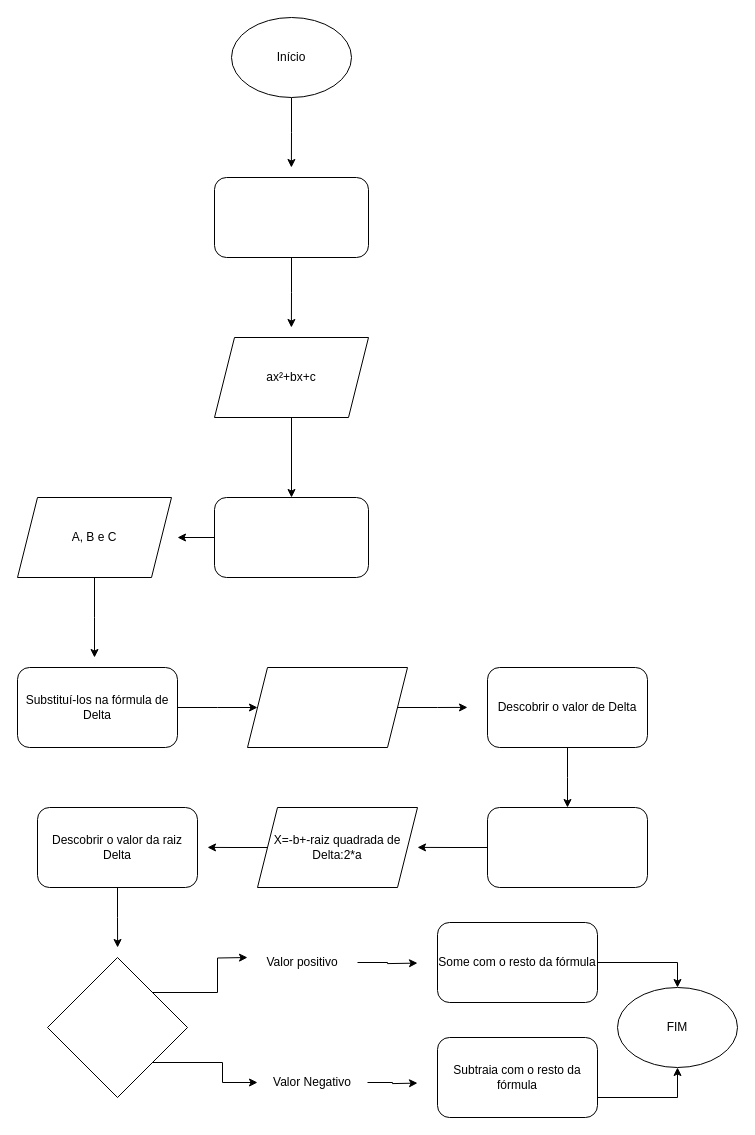
Image size: 755x1135. Some labels were removed from this diagram. Here are the shapes that lost their labels. From the top down, the box of each, then its label:
(214, 176, 368, 258): Analisar a equação de segundo grau
(214, 496, 368, 578): Definir valores para A, B e C
(246, 666, 408, 748): Delta=b²-4*a*c
(486, 806, 648, 888): Substituir os valores encontrados na fórmula de Báskara
(46, 956, 188, 1098): Se
